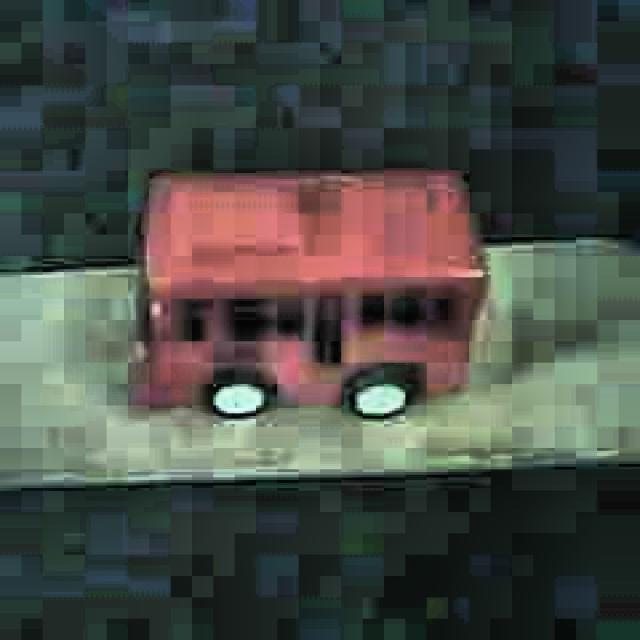bus: (132, 167, 487, 421)
